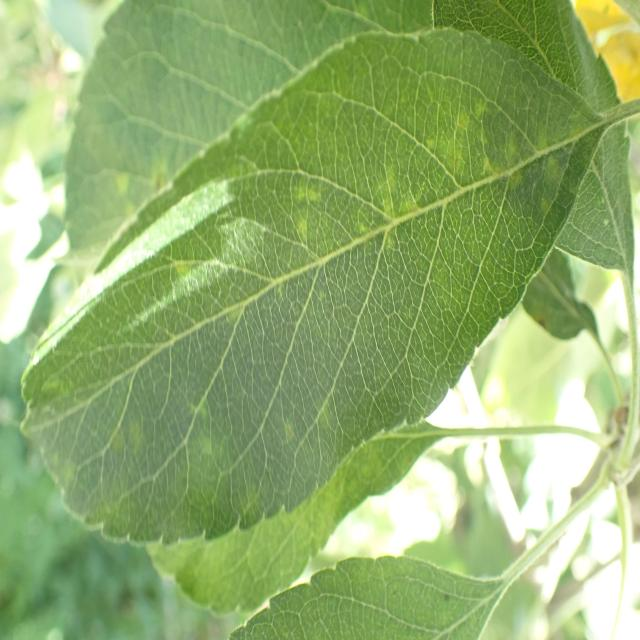scab: (17, 86, 594, 486)
